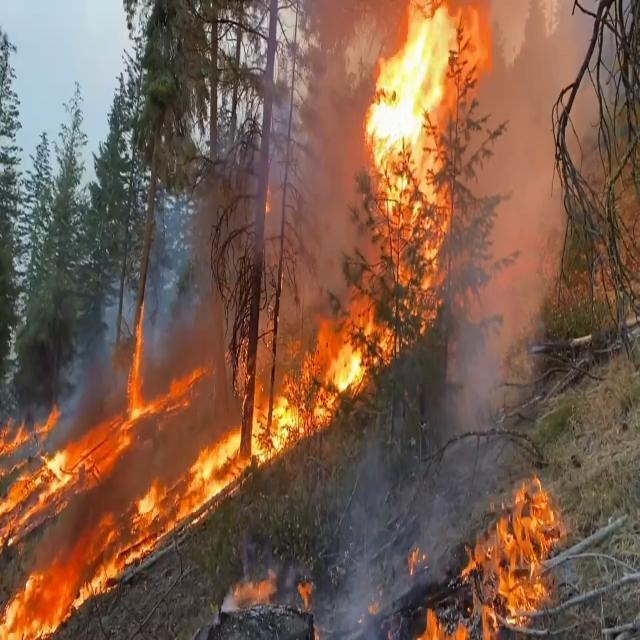Fire: (1, 6, 498, 636), (391, 474, 559, 640)
